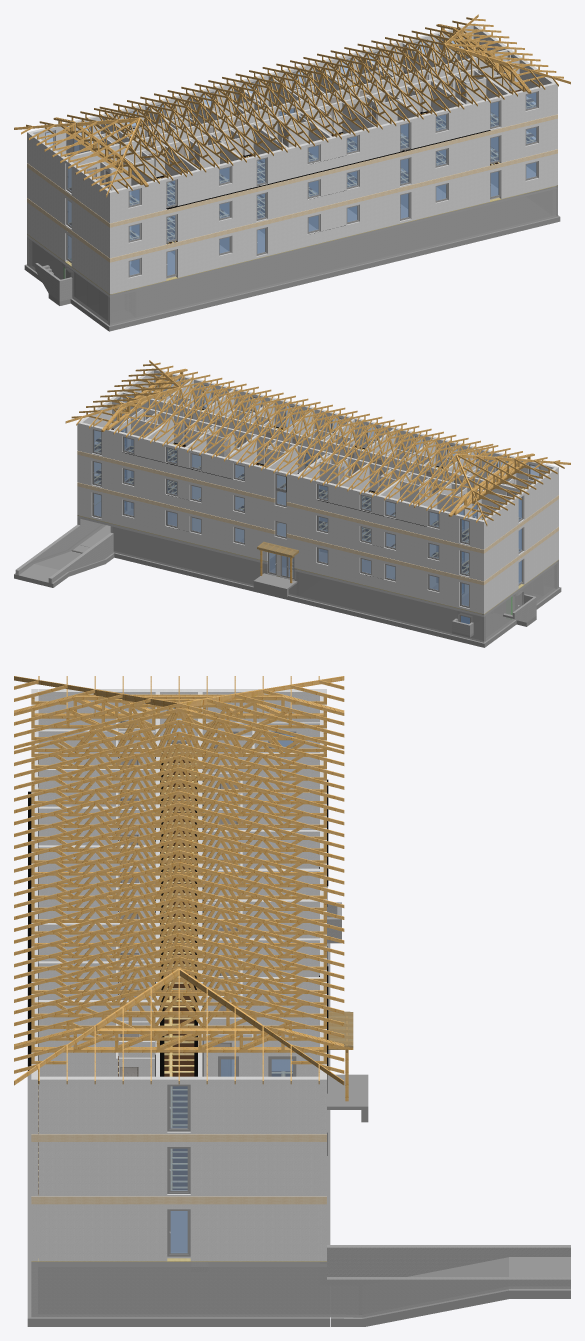
The picture shows the model from 3 angles, top to bottom: view 1: azimuth 30°, elevation 25°; view 2: azimuth 150°, elevation 25°; view 3: azimuth 270°, elevation 25°; orthographic projection. The views are drawn at different scales.
Visible parts, largest first — view 1: Model; view 2: Model; view 3: Model.
Boxes of the visible parts, x1=… form: Model: x1=14, y1=14, x2=570, y2=331; Model: x1=14, y1=360, x2=570, y2=647; Model: x1=14, y1=676, x2=570, y2=1326.
Bounding box in the file's own units: 42200 × 14174 × 24290.
21 materials, 16 textured.
